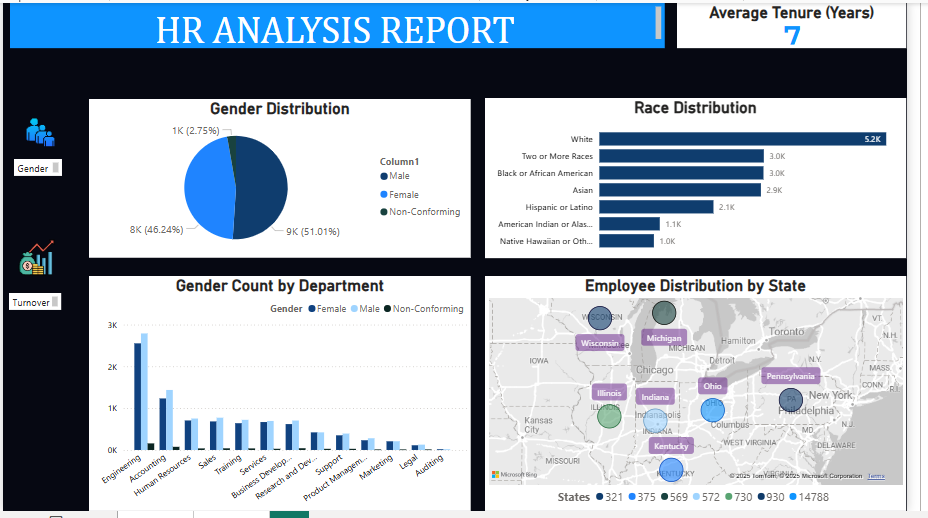

The page's visual inventory and layout, read from the dashboard file:
{"tool":"powerbi","page":{"name":"Page 1","canvas":[1280,720],"ordinal":0},"visuals":[{"type":"textbox","box":[9.5,0,928.2,63.6],"z":0},{"type":"card","title":"Average Tenure (Years)","fields":{"Values":["Sum(average tenure.Column1)"]},"box":[955.3,0,324.6,63.8],"z":1000},{"type":"pieChart","title":"Gender Distribution","fields":{"Category":["gender.Column1"],"Y":["Sum(gender.Column2)"]},"box":[121.9,136.1,541.4,225.4],"z":2000},{"type":"clusteredColumnChart","title":"Gender Count by Department","fields":{"Y":["Sum(gender - departments.Column3)"],"Category":["gender - departments.Column1"],"Series":["gender - departments.Column2"]},"box":[121.9,386.9,541.4,333.1],"z":3000},{"type":"map","title":"Employee Distribution by State","fields":{"Series":["state distribution.Column2"],"Category":["state distribution.Column1"]},"box":[683.1,386.9,596.7,333.1],"z":5000},{"type":"clusteredBarChart","title":"Race Distribution","fields":{"Category":["race distribution.Column1"],"Y":["Sum(race distribution.Column2)"]},"box":[683.1,134.6,596.7,226.8],"z":6000},{"type":"image","box":[16.4,323,61,74.4],"z":6008},{"type":"image","box":[23.8,157.8,58,52.1],"z":6009},{"type":"textbox","box":[8.9,410.8,74.4,23.8],"z":6012},{"type":"textbox","box":[14.9,221.8,68.5,23.8],"z":6013}]}

Visuals, with their boxes in screenshot pixels (x1, y1, x2, y2):
textbox: [7, 0, 664, 45]
"Average Tenure (Years)" card: [677, 0, 907, 45]
"Gender Distribution" pieChart: [86, 96, 470, 256]
"Gender Count by Department" clusteredColumnChart: [86, 274, 470, 510]
"Employee Distribution by State" map: [484, 274, 907, 510]
"Race Distribution" clusteredBarChart: [484, 95, 907, 256]
image: [12, 229, 55, 282]
image: [17, 112, 58, 149]
textbox: [6, 291, 59, 308]
textbox: [11, 157, 59, 174]
